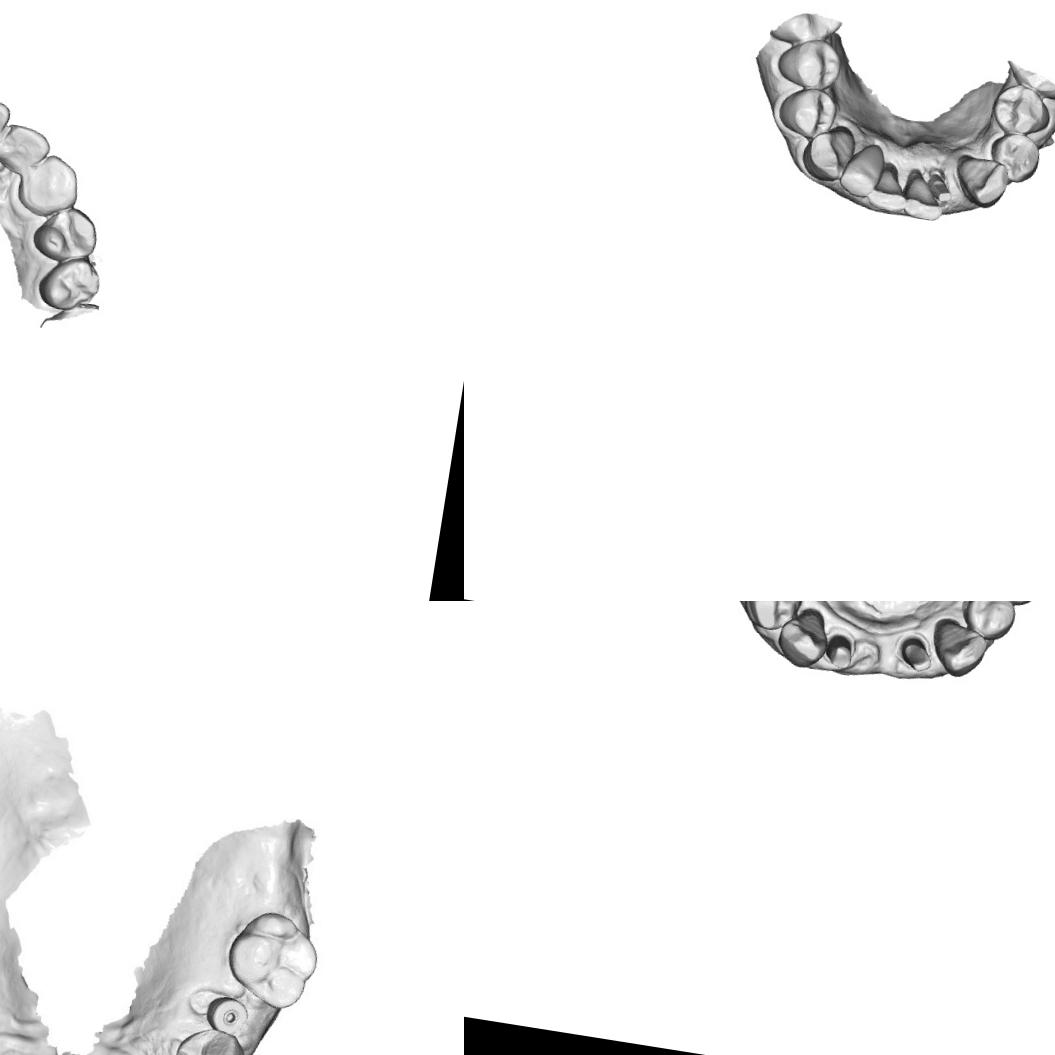abutment: (891, 630, 937, 675), (822, 630, 857, 672), (924, 165, 956, 204)
canine: (16, 149, 84, 219), (926, 615, 992, 682), (773, 603, 834, 671), (798, 124, 858, 184), (951, 154, 1010, 212)
implant: (208, 995, 250, 1041)
incisor: (0, 119, 55, 178), (837, 138, 888, 200), (864, 164, 911, 214), (902, 192, 945, 224)
molar: (218, 901, 328, 1016)
premolar: (28, 200, 104, 268), (34, 252, 106, 316), (772, 32, 844, 92), (774, 83, 841, 141), (988, 81, 1055, 138), (984, 129, 1044, 186), (169, 1021, 252, 1055), (957, 601, 1019, 645), (738, 601, 806, 634)
